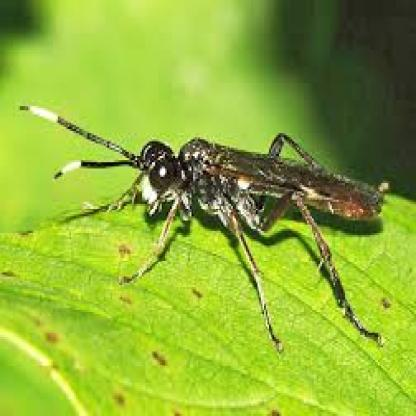sawfly: (19, 98, 393, 354)
